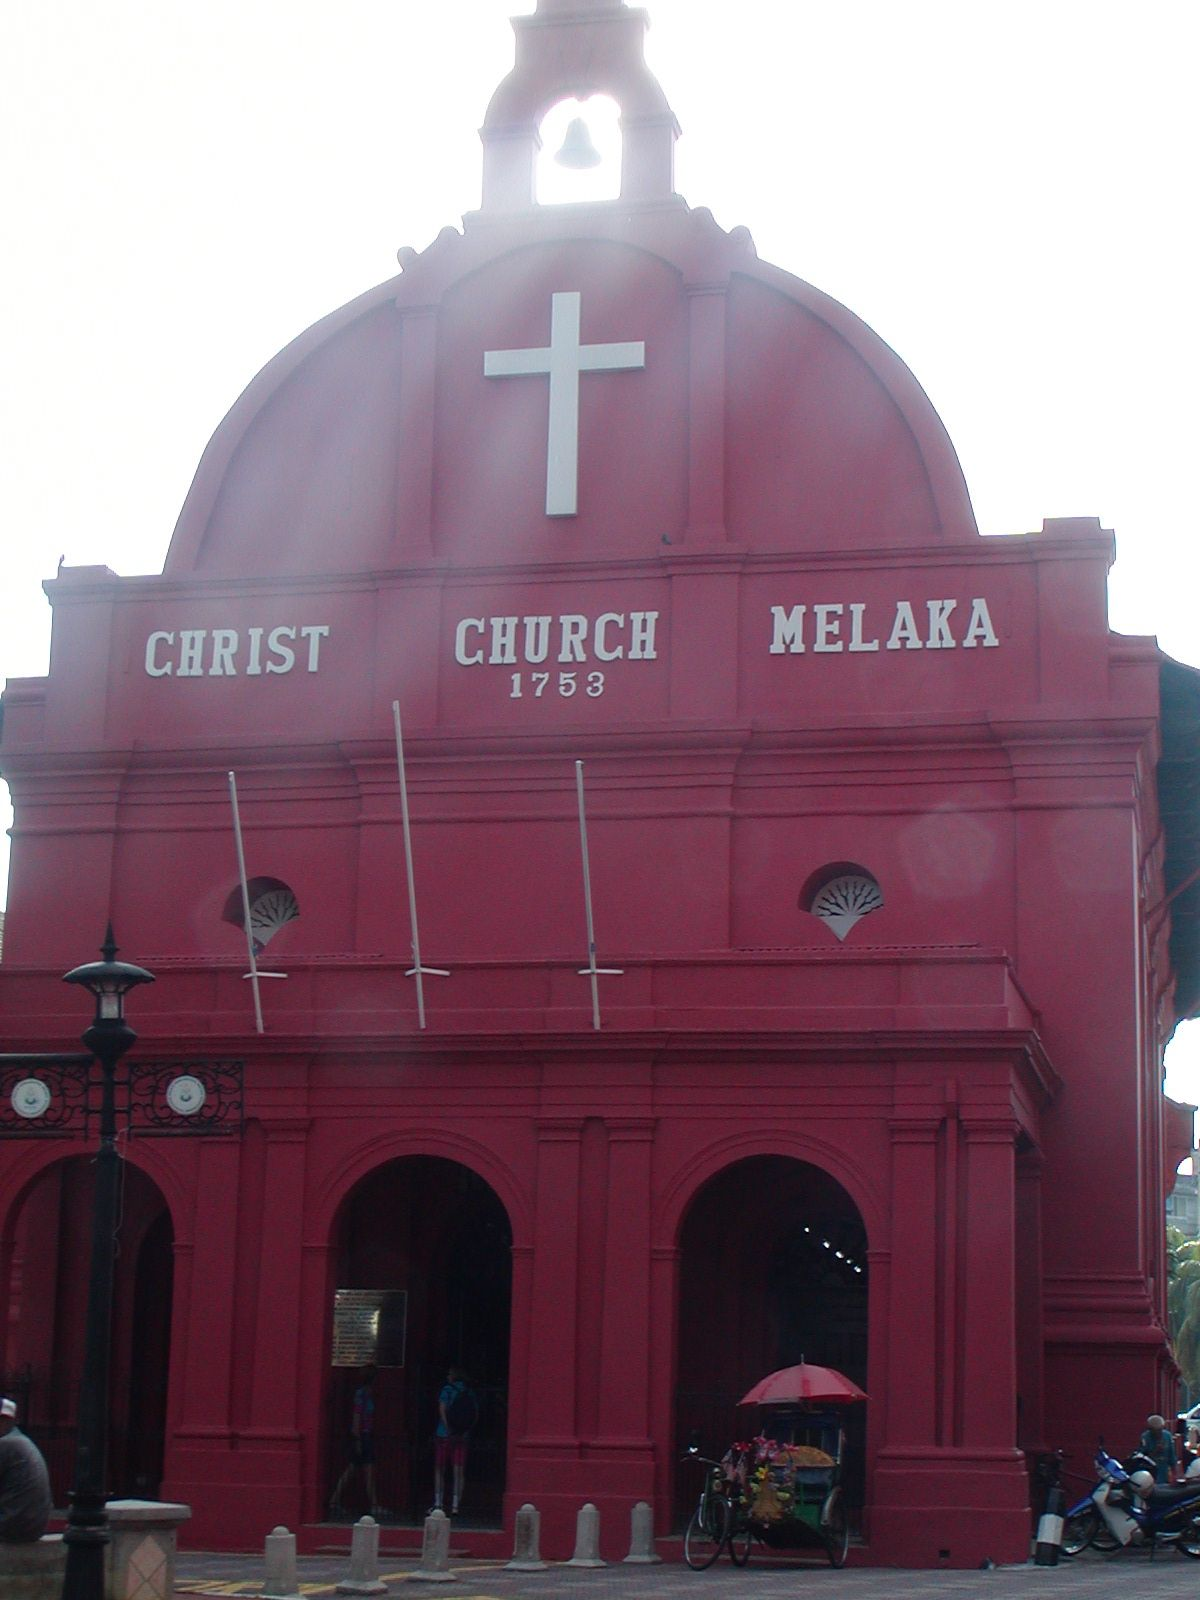Church: (13, 6, 1179, 1474)
